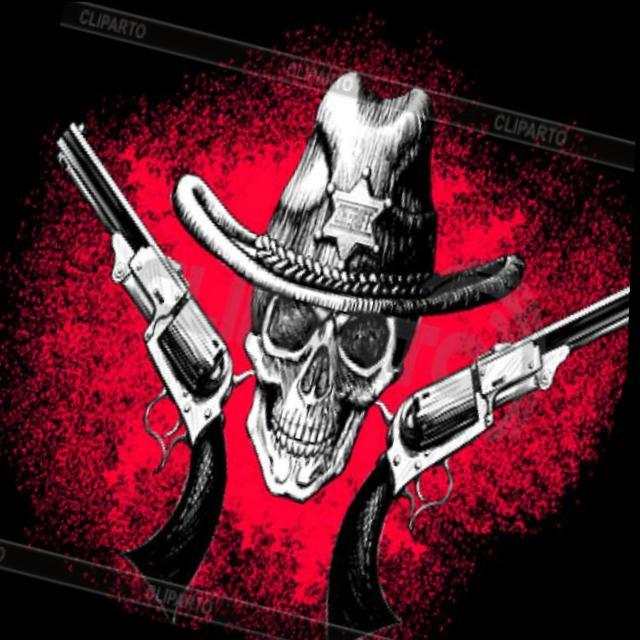weapon: (0, 111, 314, 628), (308, 201, 634, 640)
